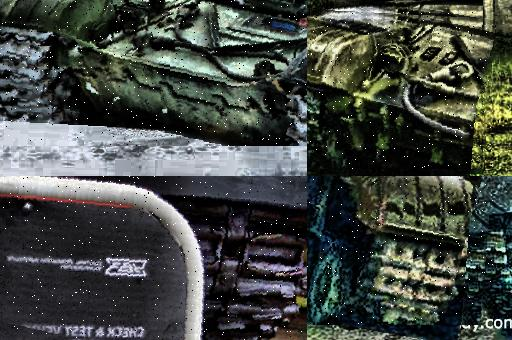tanks: (1, 1, 308, 147), (88, 177, 308, 340), (308, 14, 496, 170), (308, 177, 484, 326), (420, 177, 512, 327)
